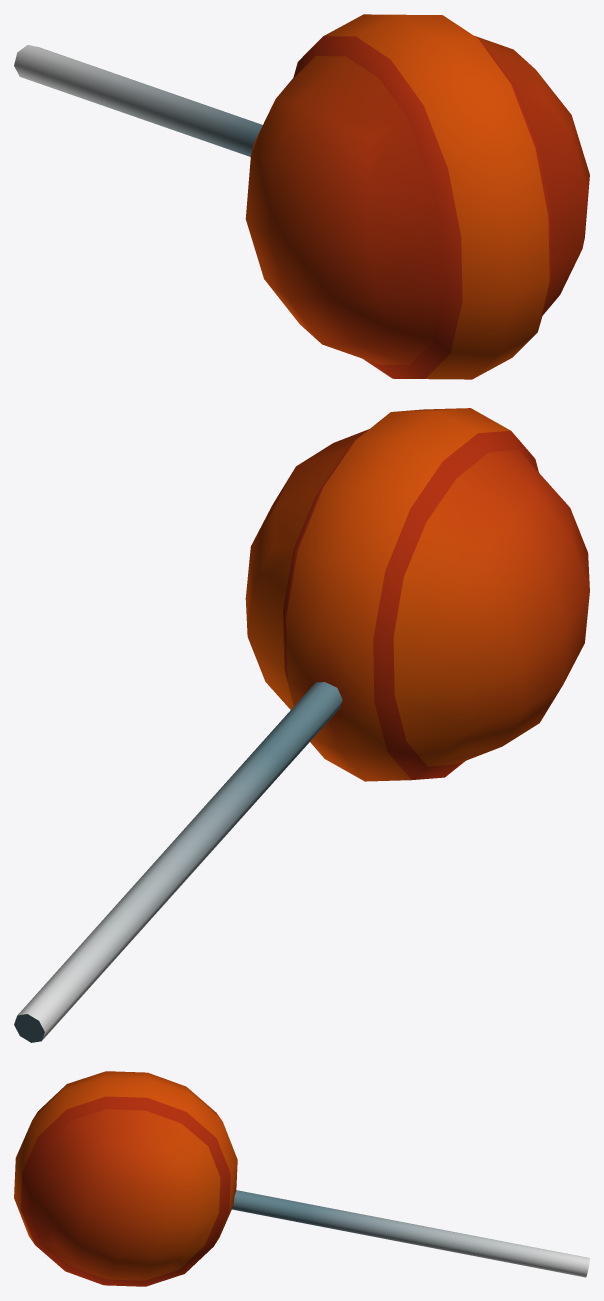
The model's file is consumables-sugar-lollipop_v2.glb.
The picture shows the model from 3 angles, top to bottom: view 1: azimuth 30°, elevation 25°; view 2: azimuth 150°, elevation 25°; view 3: azimuth 270°, elevation 25°; orthographic projection. The views are drawn at different scales.
Visible parts, largest first — view 1: Lollipop_v2; view 2: Lollipop_v2; view 3: Lollipop_v2.
Boxes of the visible parts, x1,y1,x2,y2 form: Lollipop_v2: (14, 14, 589, 379); Lollipop_v2: (14, 408, 589, 1042); Lollipop_v2: (14, 1071, 589, 1286).
Size of the model in its own units: 0.0447 by 0.0491 by 0.1263.
